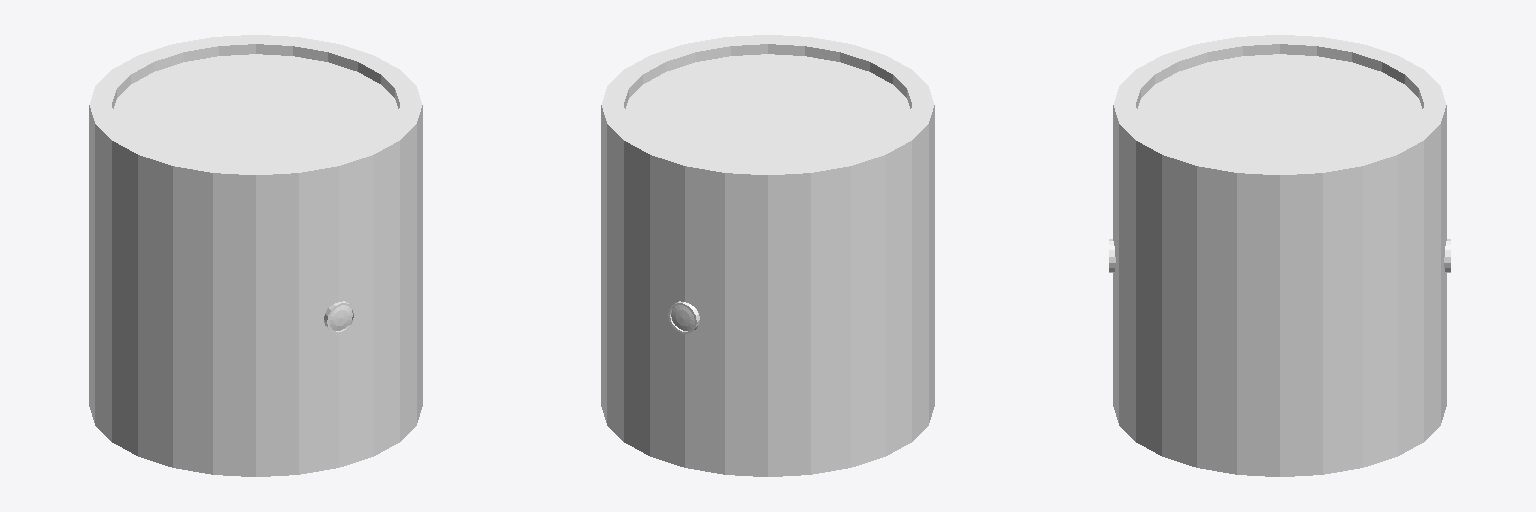
The model's file is aquila_crew_s1p5_2_1.obj.
3 views of the same model, side by side, from view 1: azimuth 30°, elevation 25°; view 2: azimuth 150°, elevation 25°; view 3: azimuth 270°, elevation 25° (orthographic).
Visible parts, largest first — view 1: aquila_crew_s1p5_2_1; view 2: aquila_crew_s1p5_2_1; view 3: aquila_crew_s1p5_2_1.
Boxes of the visible parts, x1=… form: aquila_crew_s1p5_2_1: x1=89, y1=35, x2=422, y2=476; aquila_crew_s1p5_2_1: x1=601, y1=35, x2=934, y2=476; aquila_crew_s1p5_2_1: x1=1109, y1=35, x2=1450, y2=476.
Size of the model in its own units: 1.88 by 1.88 by 1.93.